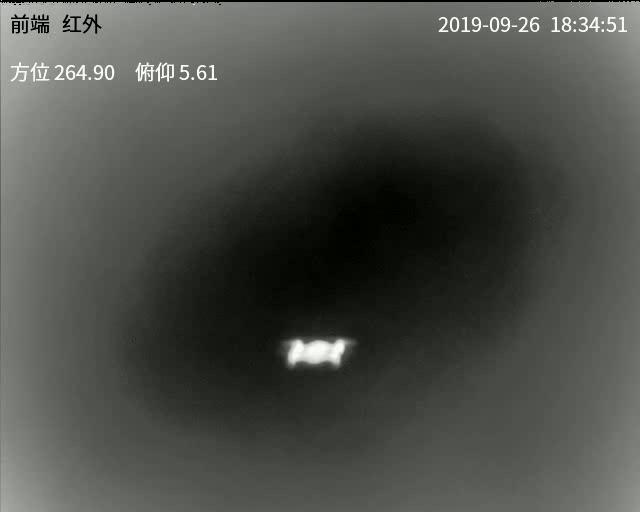DRONE: (286, 336, 347, 366)
